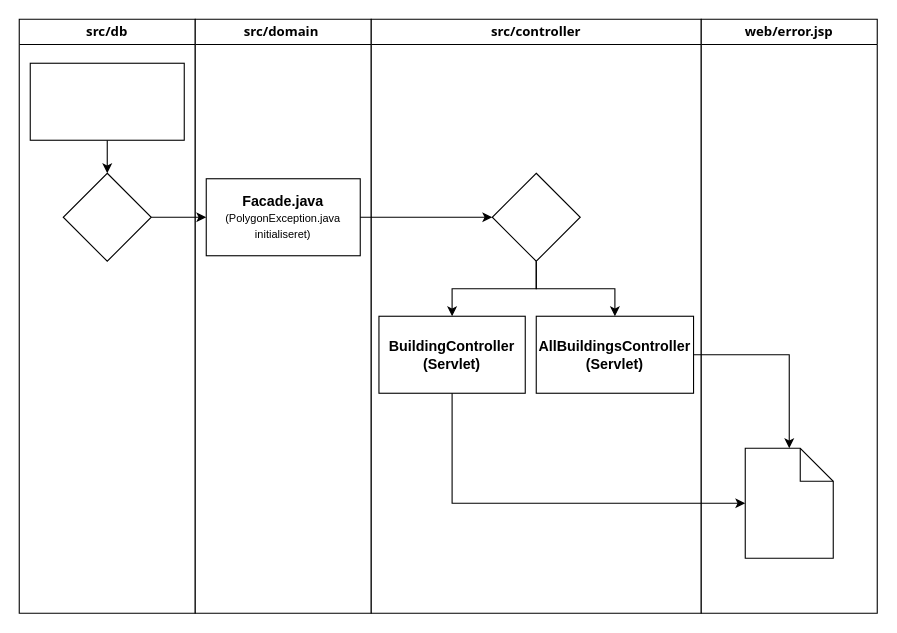
Some shapes in this 897 by 633 pixel diagram are drawn without their labels. Each missing label, with the centre of its shape:
BuildingMapper.java (PolygonException.java initialiseret): [106,101]
Error.jsp (Message to the customer): [788,502]
Exception occurs: [106,216]
Forward to controller: [535,216]
